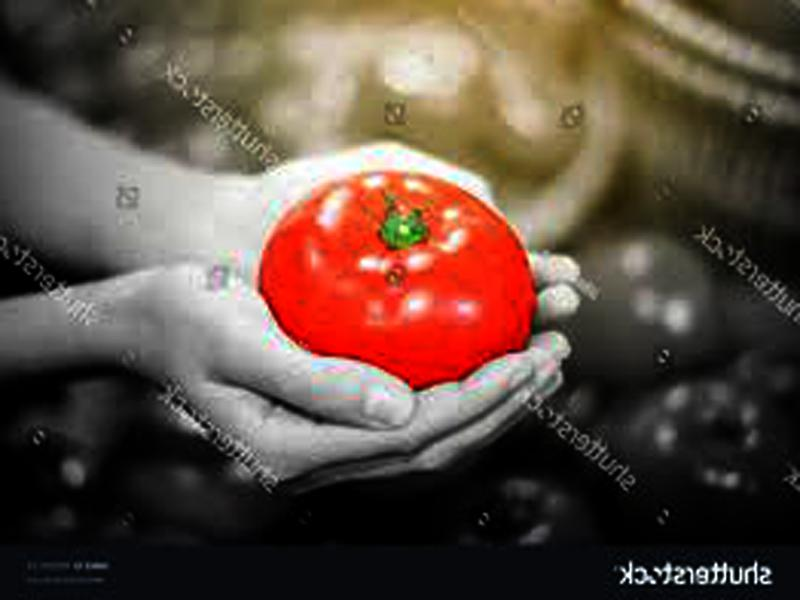Tomato: (259, 172, 533, 388)
